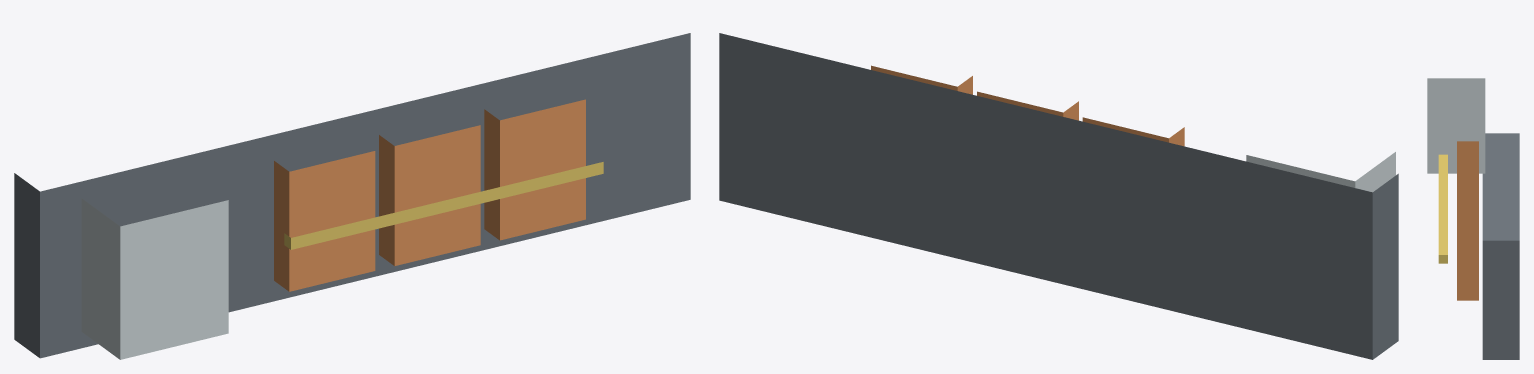
Rendered from tanker.glb.
3 renders of one model, left to right at view 1: azimuth 30°, elevation 25°; view 2: azimuth 150°, elevation 25°; view 3: azimuth 270°, elevation 25°, orthographic. The views are drawn at different scales.
Size of the model in its own units: 10.2 by 2.5 by 1.75.
